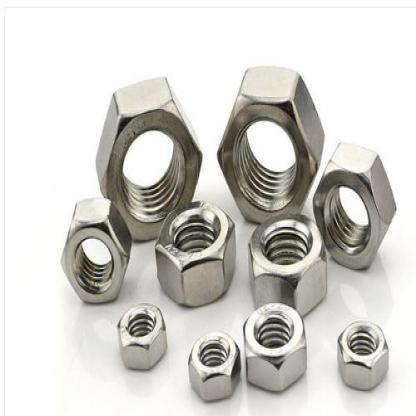FOD: (90, 72, 204, 244), (216, 63, 326, 227), (313, 139, 398, 273), (244, 210, 330, 325), (157, 196, 237, 305), (58, 195, 133, 309), (242, 302, 310, 397), (334, 319, 392, 390), (186, 332, 242, 402), (116, 302, 168, 376)
